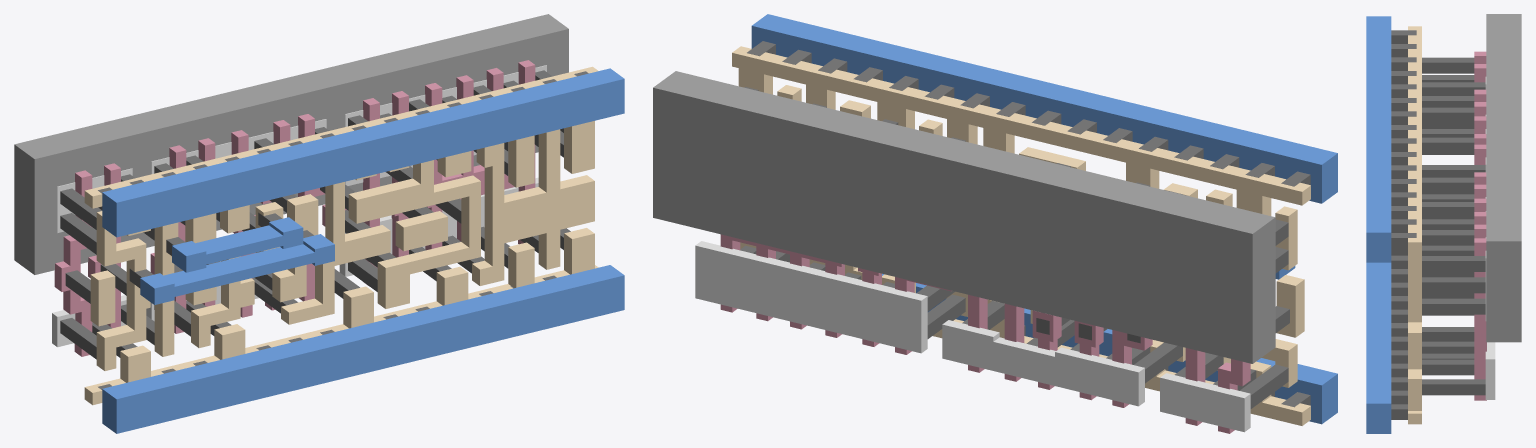
Rendered from sky130_fd_sc_hd__dlrtn_4.gds.gltf.
3 renders of one model, left to right at view 1: azimuth 30°, elevation 25°; view 2: azimuth 150°, elevation 25°; view 3: azimuth 270°, elevation 25°, orthographic. The views are drawn at different scales.
Parts seen in each view (by area): view 1: sky130_fd_sc_hd__dlrtn_4_met1, sky130_fd_sc_hd__dlrtn_4_li1, sky130_fd_sc_hd__dlrtn_4_nwell, sky130_fd_sc_hd__dlrtn_4_licon, sky130_fd_sc_hd__dlrtn_4_poly, sky130_fd_sc_hd__dlrtn_4_diff, sky130_fd_sc_hd__dlrtn_4_mcon; view 2: sky130_fd_sc_hd__dlrtn_4_nwell, sky130_fd_sc_hd__dlrtn_4_diff, sky130_fd_sc_hd__dlrtn_4_li1, sky130_fd_sc_hd__dlrtn_4_met1, sky130_fd_sc_hd__dlrtn_4_poly, sky130_fd_sc_hd__dlrtn_4_licon, sky130_fd_sc_hd__dlrtn_4_mcon; view 3: sky130_fd_sc_hd__dlrtn_4_licon, sky130_fd_sc_hd__dlrtn_4_nwell, sky130_fd_sc_hd__dlrtn_4_met1, sky130_fd_sc_hd__dlrtn_4_mcon, sky130_fd_sc_hd__dlrtn_4_li1, sky130_fd_sc_hd__dlrtn_4_poly, sky130_fd_sc_hd__dlrtn_4_diff.
Part boxes in pixels (box(x1,y1,x2,y2)): sky130_fd_sc_hd__dlrtn_4_met1: box(102, 68, 624, 433); sky130_fd_sc_hd__dlrtn_4_li1: box(84, 66, 598, 405); sky130_fd_sc_hd__dlrtn_4_nwell: box(14, 14, 568, 274); sky130_fd_sc_hd__dlrtn_4_licon: box(60, 70, 570, 359); sky130_fd_sc_hd__dlrtn_4_poly: box(54, 60, 535, 356); sky130_fd_sc_hd__dlrtn_4_diff: box(52, 65, 546, 347); sky130_fd_sc_hd__dlrtn_4_mcon: box(98, 71, 588, 389); sky130_fd_sc_hd__dlrtn_4_nwell: box(653, 71, 1275, 363); sky130_fd_sc_hd__dlrtn_4_diff: box(695, 241, 1250, 432); sky130_fd_sc_hd__dlrtn_4_li1: box(732, 46, 1310, 425); sky130_fd_sc_hd__dlrtn_4_met1: box(751, 14, 1337, 424); sky130_fd_sc_hd__dlrtn_4_poly: box(720, 234, 1250, 433); sky130_fd_sc_hd__dlrtn_4_licon: box(740, 87, 1289, 408); sky130_fd_sc_hd__dlrtn_4_mcon: box(747, 41, 1310, 407); sky130_fd_sc_hd__dlrtn_4_licon: box(1422, 57, 1485, 395); sky130_fd_sc_hd__dlrtn_4_nwell: box(1486, 14, 1521, 342); sky130_fd_sc_hd__dlrtn_4_met1: box(1366, 16, 1391, 433); sky130_fd_sc_hd__dlrtn_4_mcon: box(1391, 30, 1416, 419); sky130_fd_sc_hd__dlrtn_4_li1: box(1408, 26, 1421, 424); sky130_fd_sc_hd__dlrtn_4_poly: box(1474, 51, 1486, 400); sky130_fd_sc_hd__dlrtn_4_diff: box(1485, 77, 1495, 399).
Bounding box in the file's own units: 7.74 × 3.2 × 2.24.
